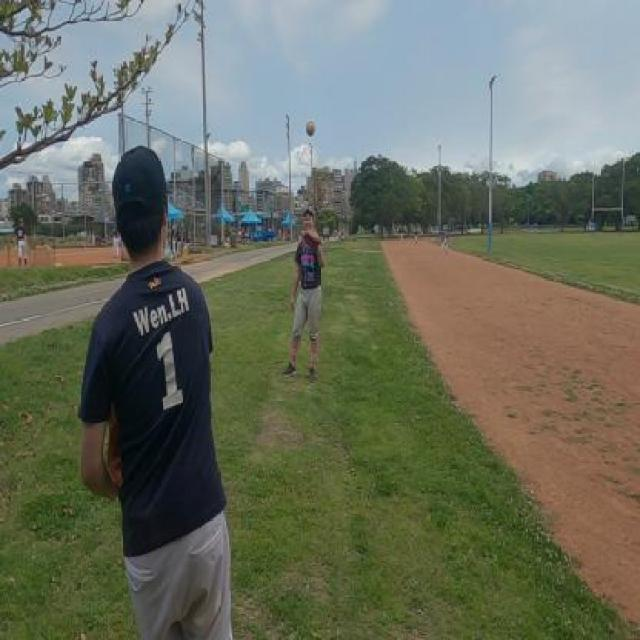baseball: (306, 118, 314, 137)
